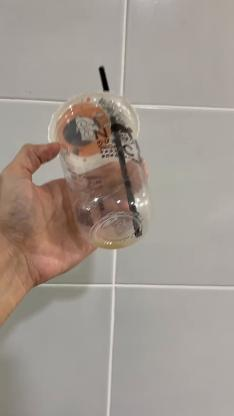Plastic Cup: (46, 92, 154, 250)
